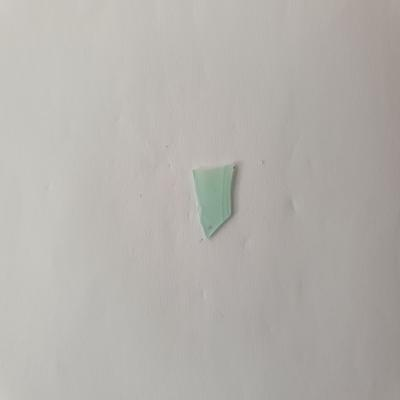plastic: (185, 158, 249, 243)
